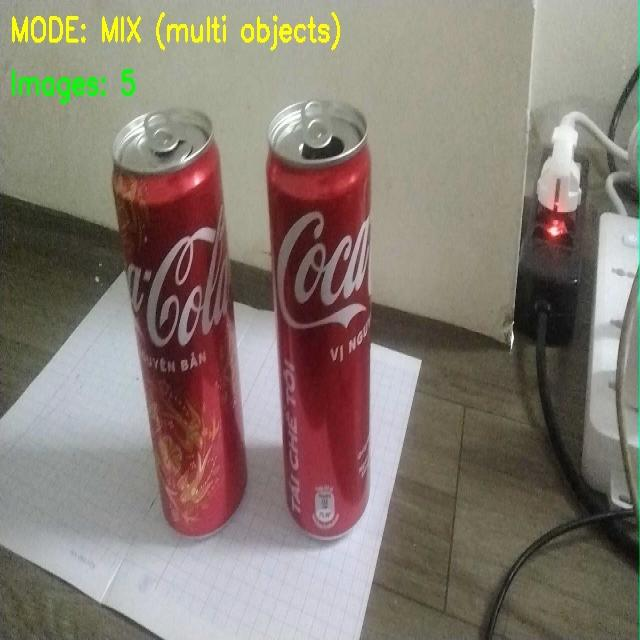Coca: (94, 99, 262, 554)
Coca_open: (266, 94, 422, 556)
